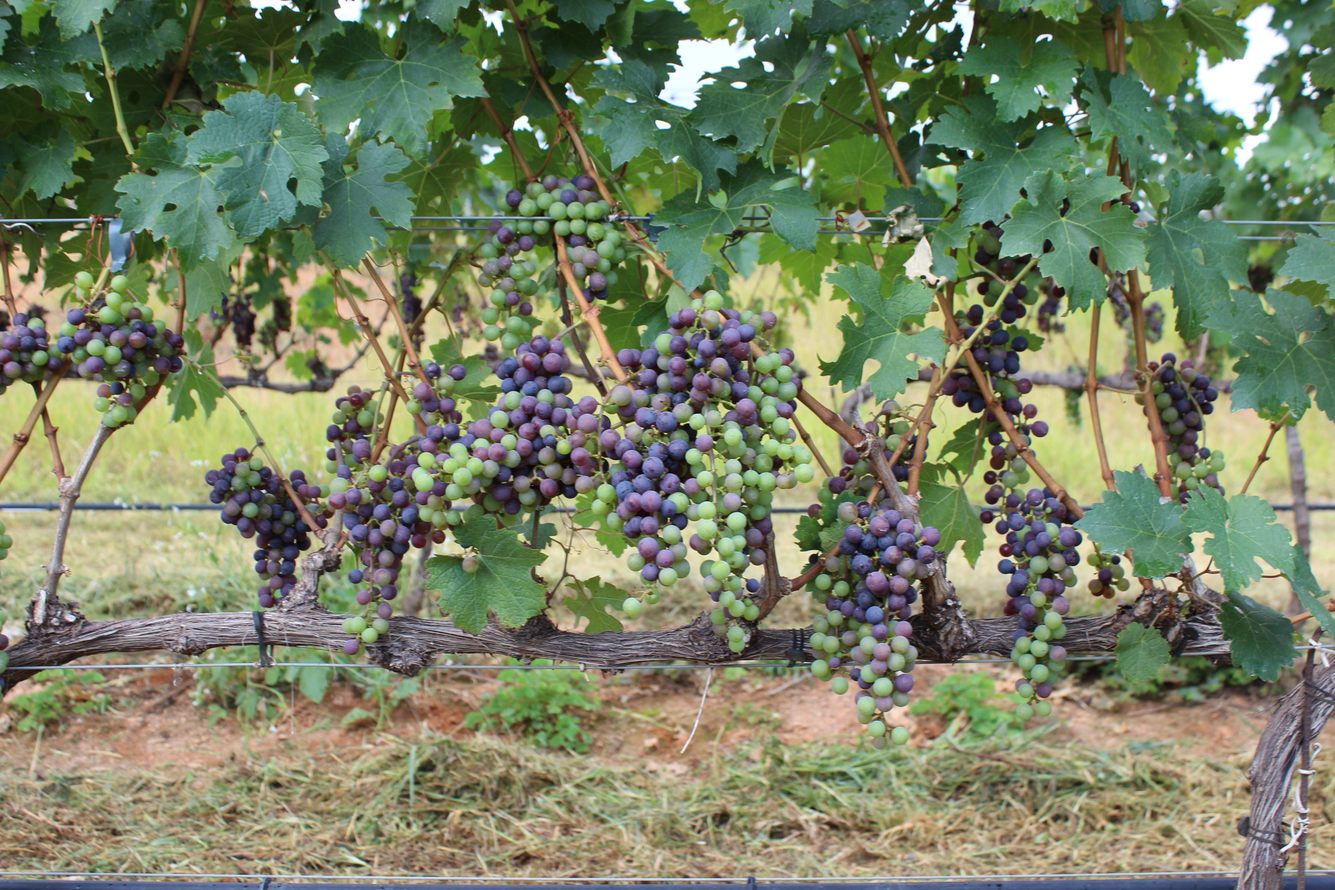leaf: (314, 16, 486, 156), (653, 160, 819, 292), (186, 92, 329, 237), (1002, 170, 1145, 309), (930, 93, 1076, 225), (594, 59, 737, 191), (690, 27, 832, 152), (820, 263, 945, 400), (1147, 170, 1247, 340), (116, 130, 234, 269), (1209, 289, 1335, 418), (426, 515, 546, 634), (313, 134, 414, 267), (1076, 471, 1192, 577), (1183, 486, 1294, 589), (959, 35, 1078, 121), (1082, 67, 1174, 169), (0, 18, 99, 109), (1219, 591, 1298, 681), (429, 337, 501, 419), (919, 479, 984, 566), (168, 326, 225, 422), (104, 3, 184, 71), (8, 129, 75, 200), (1286, 544, 1335, 637), (1174, 0, 1247, 60), (807, 0, 911, 41), (563, 576, 626, 633), (1115, 622, 1170, 681), (1279, 234, 1335, 287), (51, 0, 117, 39), (554, 0, 615, 32), (139, 0, 149, 5), (1007, 225, 1009, 233), (924, 467, 926, 473), (1030, 194, 1032, 200), (691, 189, 694, 192), (1212, 61, 1215, 64), (1040, 241, 1041, 248), (229, 26, 230, 30), (1059, 198, 1060, 201), (887, 266, 888, 268), (1290, 254, 1291, 255)
